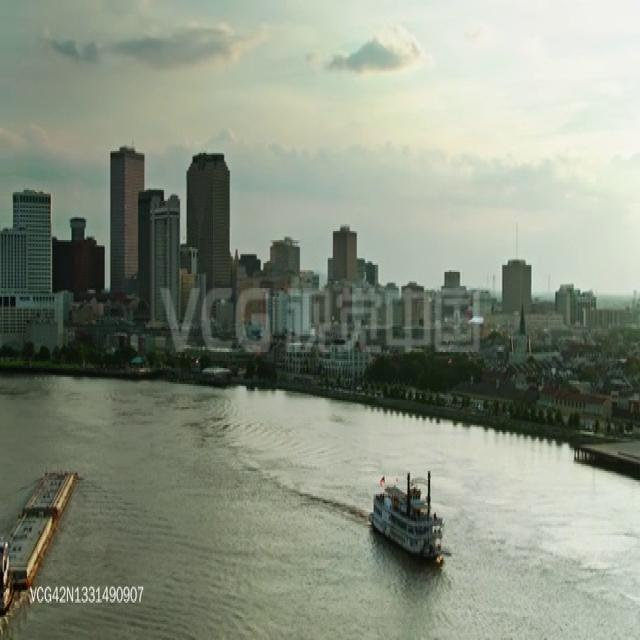cargoship: (0, 468, 79, 632)
passenger ship: (369, 470, 447, 560)
